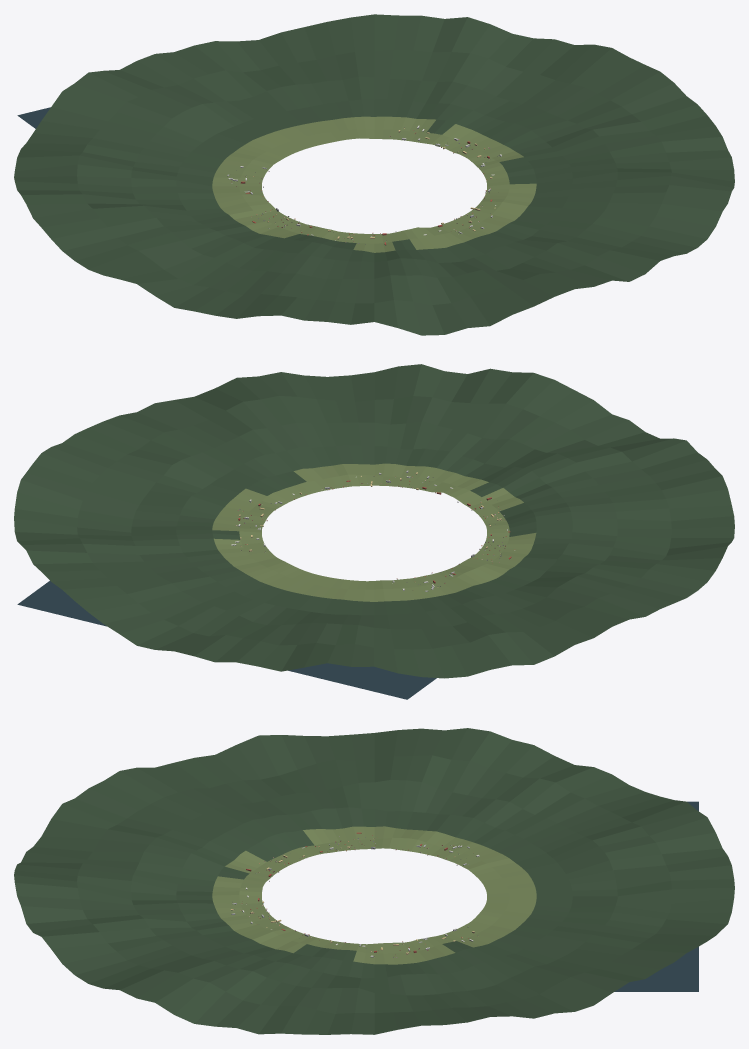
The model's file is SM_Backdrop.fbx.
3 renders of one model, top to bottom at view 1: azimuth 30°, elevation 25°; view 2: azimuth 150°, elevation 25°; view 3: azimuth 270°, elevation 25°, orthographic.
Visible parts, largest first — view 1: SM_Backdrop; view 2: SM_Backdrop; view 3: SM_Backdrop.
Boxes of the visible parts, box(x1,y1,x2,y2) form: SM_Backdrop: box(14, 14, 734, 335); SM_Backdrop: box(14, 364, 734, 699); SM_Backdrop: box(14, 728, 734, 1034).
Bounding box in the file's own units: 8000 × 8000 × 297.
